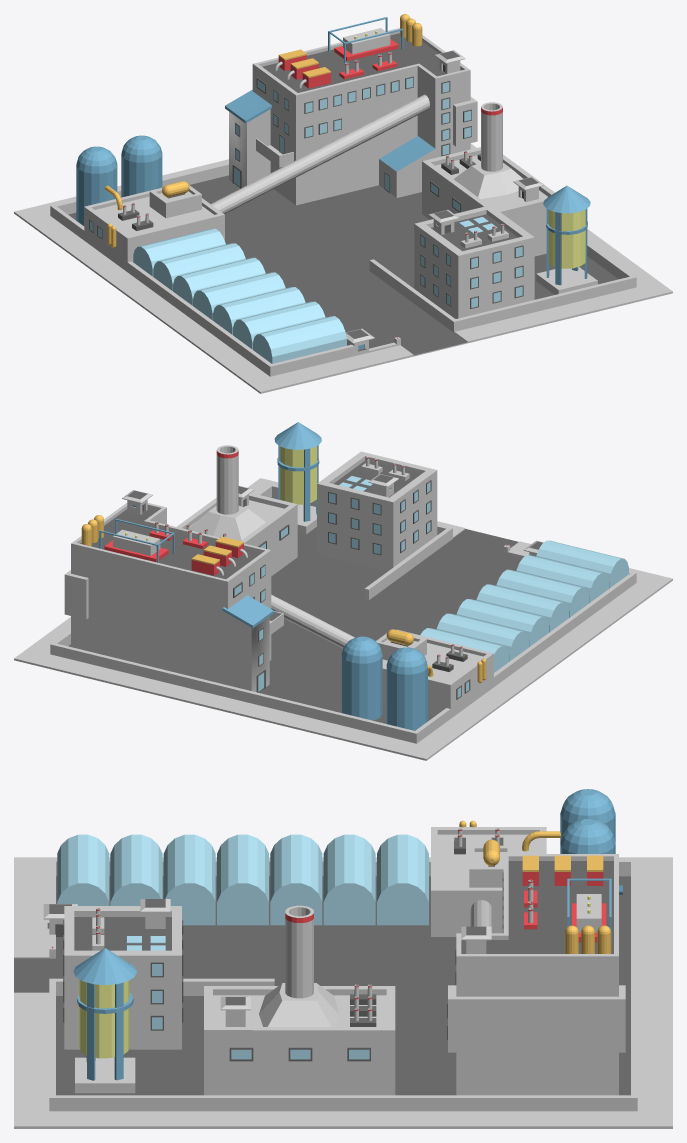
File: Fabrica.fbx
3 renders of one model, top to bottom at view 1: azimuth 30°, elevation 25°; view 2: azimuth 150°, elevation 25°; view 3: azimuth 270°, elevation 25°, orthographic. The views are drawn at different scales.
Parts seen in each view (by area): view 1: Factory_001; view 2: Factory_001; view 3: Factory_001.
Part boxes in pixels (x1=…): Factory_001: x1=14, y1=14, x2=672, y2=393; Factory_001: x1=14, y1=422, x2=672, y2=760; Factory_001: x1=14, y1=789, x2=672, y2=1128.
Size of the model in its own units: 1362 by 406 by 1410.
Materials: 1 (1 with a texture image).
